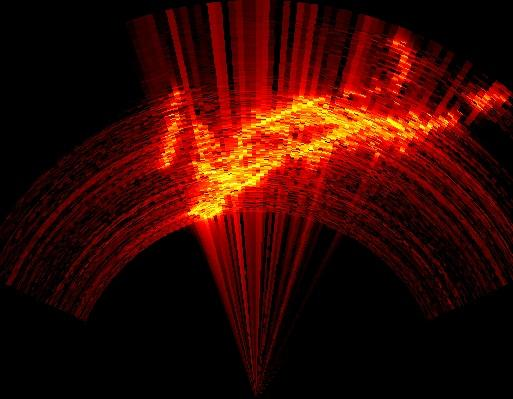shipwreck: (188, 96, 455, 218), (163, 112, 185, 166), (392, 69, 405, 93)
